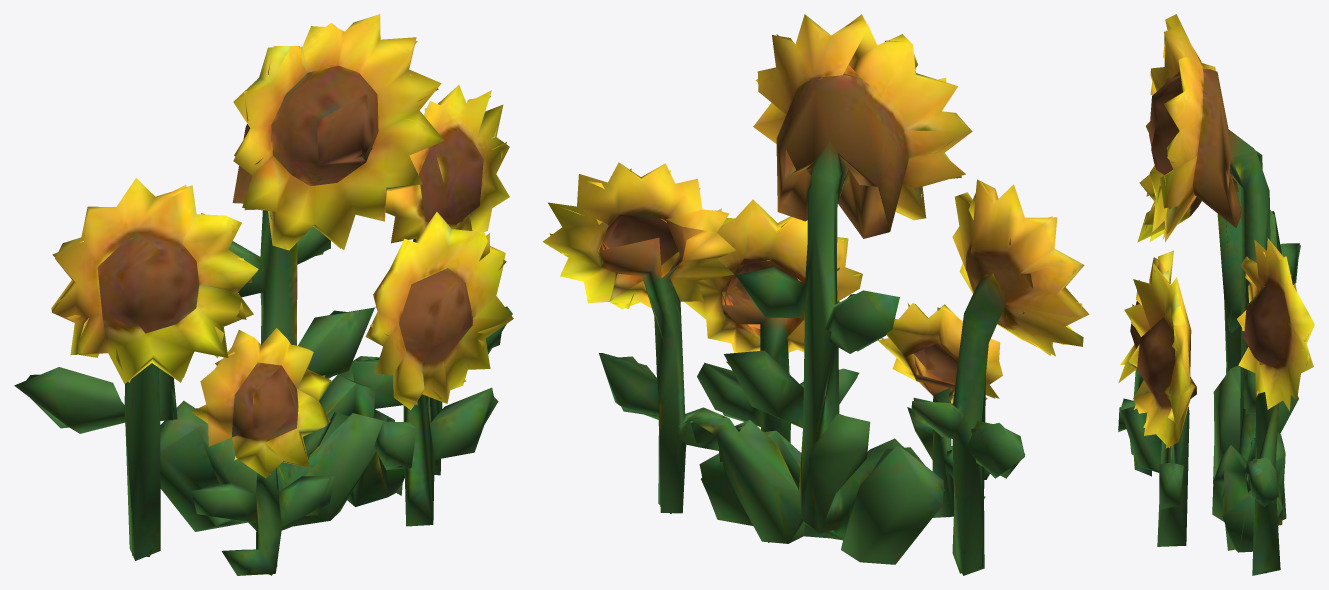
The model's file is lg-sunflower-patch.glb.
3 views of the same model, side by side, from view 1: azimuth 30°, elevation 25°; view 2: azimuth 150°, elevation 25°; view 3: azimuth 270°, elevation 25° (orthographic). The views are drawn at different scales.
Parts seen in each view (by area): view 1: geometry_0; view 2: geometry_0; view 3: geometry_0.
Boxes of the visible parts, bbox=[...] form: geometry_0: bbox=[14, 14, 513, 575]; geometry_0: bbox=[542, 14, 1089, 575]; geometry_0: bbox=[1118, 14, 1314, 575].
Size of the model in its own units: 1 by 0.9681 by 0.3595.
Materials: 1 (1 with a texture image).
